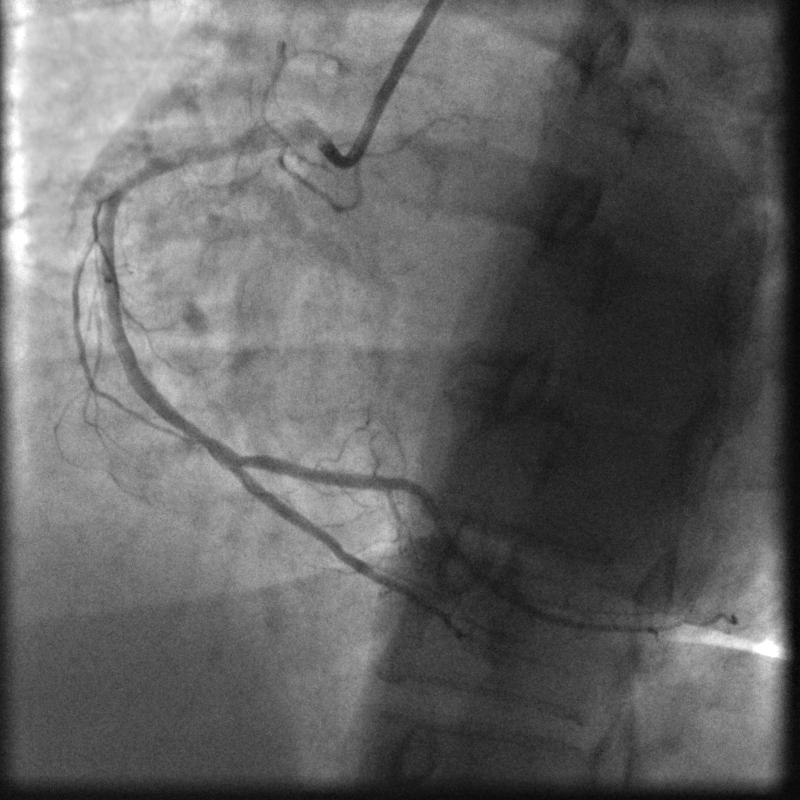Stenosis: (198, 414, 233, 468)
